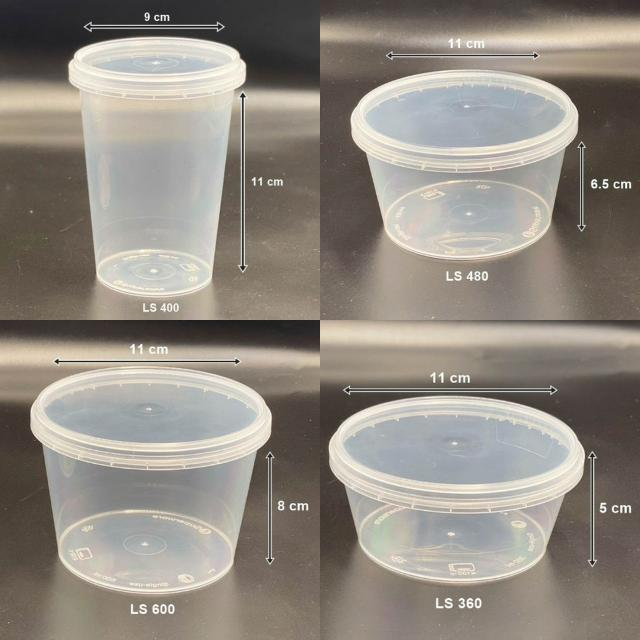Single-Use-Plastic: (31, 369, 271, 594), (329, 398, 585, 584), (69, 36, 245, 297), (351, 70, 579, 260)
